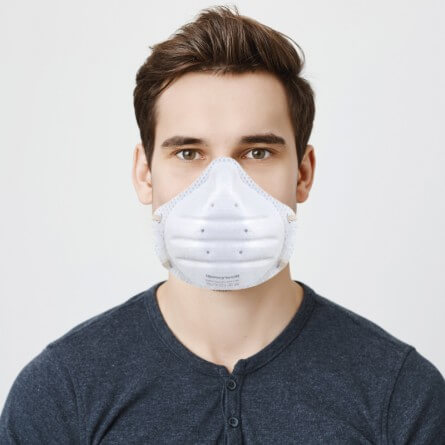with_mask: (156, 80, 293, 284)
